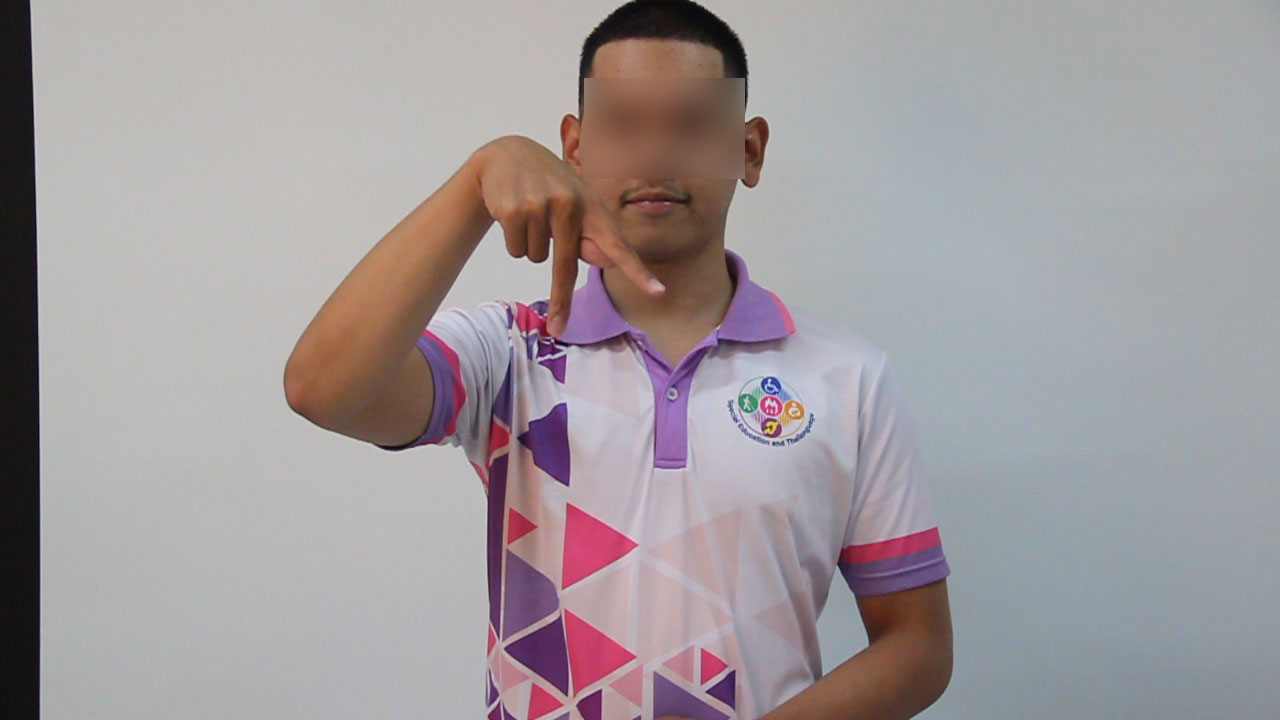por: (448, 108, 673, 345)
